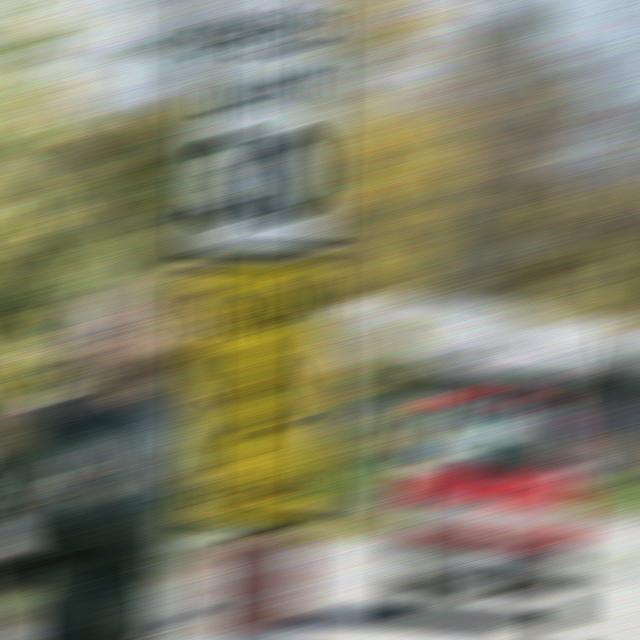speedLimit30: (188, 15, 332, 252)
